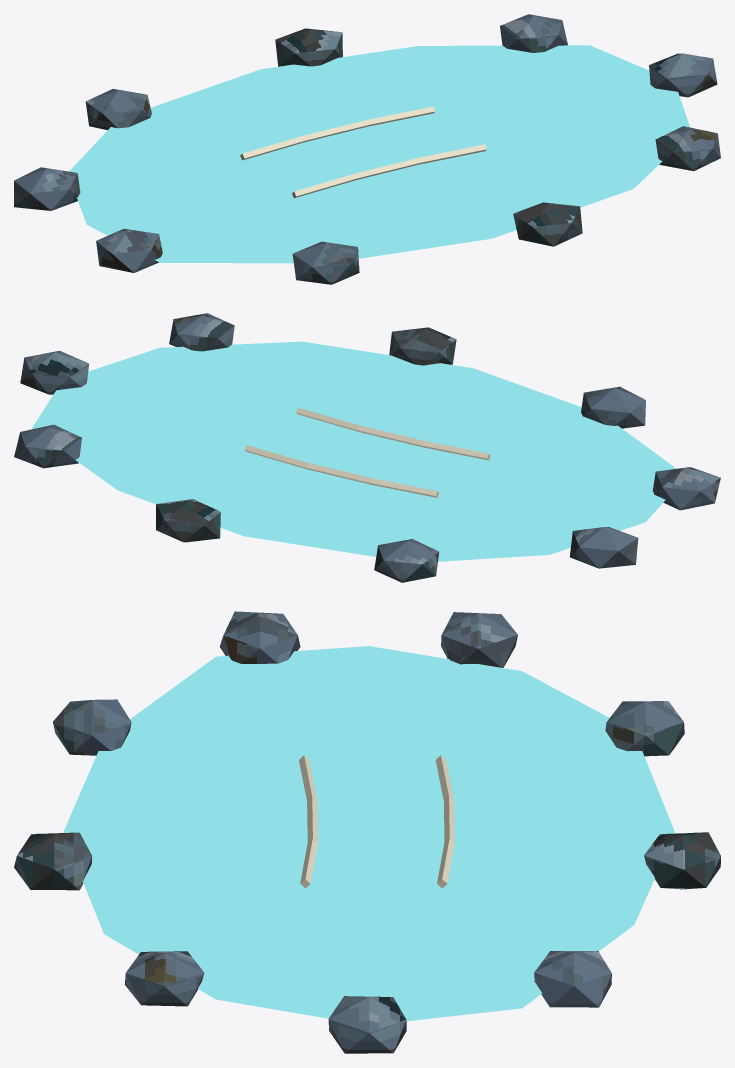
The model's file is enfeite_lago.glb.
The picture shows the model from 3 angles, top to bottom: view 1: azimuth 30°, elevation 25°; view 2: azimuth 150°, elevation 25°; view 3: azimuth 270°, elevation 25°; orthographic projection. The views are drawn at different scales.
Visible parts, largest first — view 1: pedreira_enfeite_lago; view 2: pedreira_enfeite_lago; view 3: pedreira_enfeite_lago.
Boxes of the visible parts, x1=… form: pedreira_enfeite_lago: x1=14, y1=14, x2=720, y2=284; pedreira_enfeite_lago: x1=14, y1=313, x2=720, y2=582; pedreira_enfeite_lago: x1=14, y1=611, x2=720, y2=1053.
Bounding box in the file's own units: 1.54 × 0.0951 × 1.09.
3 materials, 1 textured.
